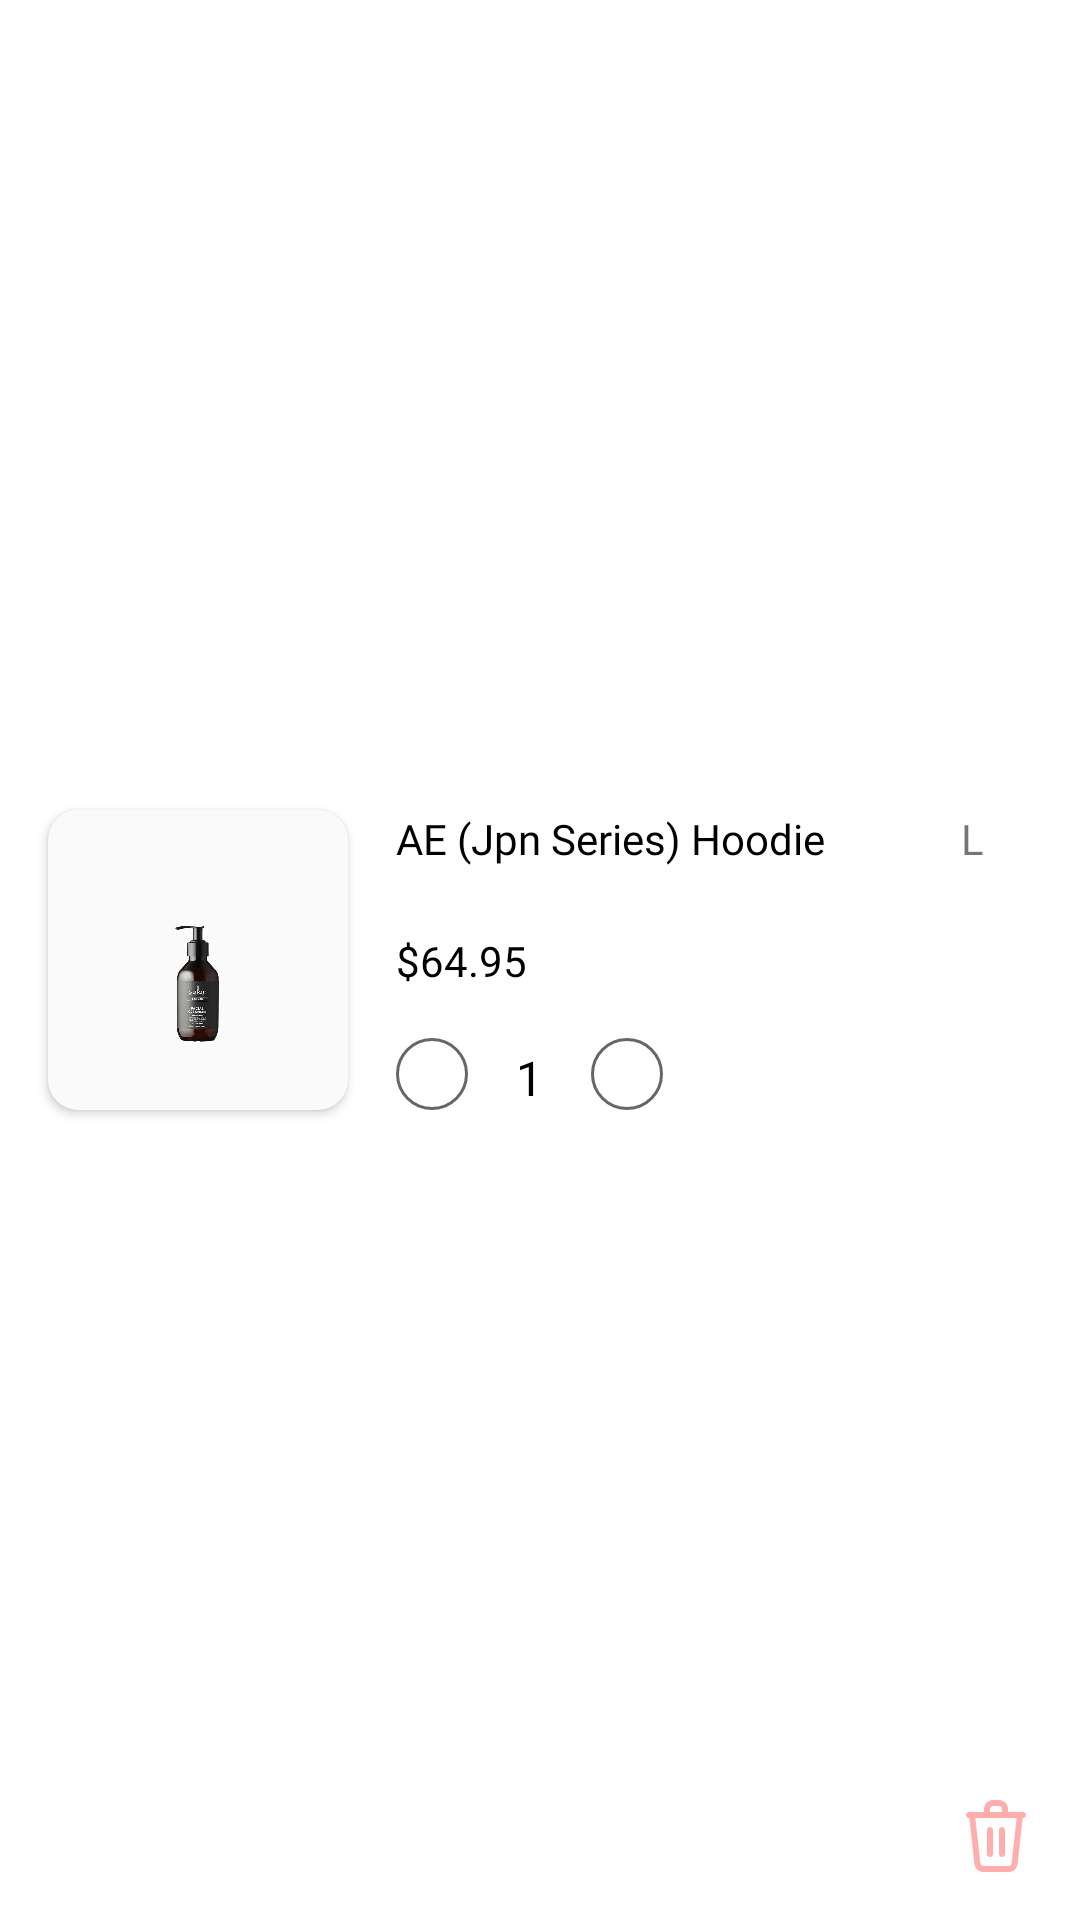

Locate icon controls on the screen. Image size 1080*1920, boxes as (x1, y1, x2, y2).
delete: (966, 1800, 1026, 1872)
